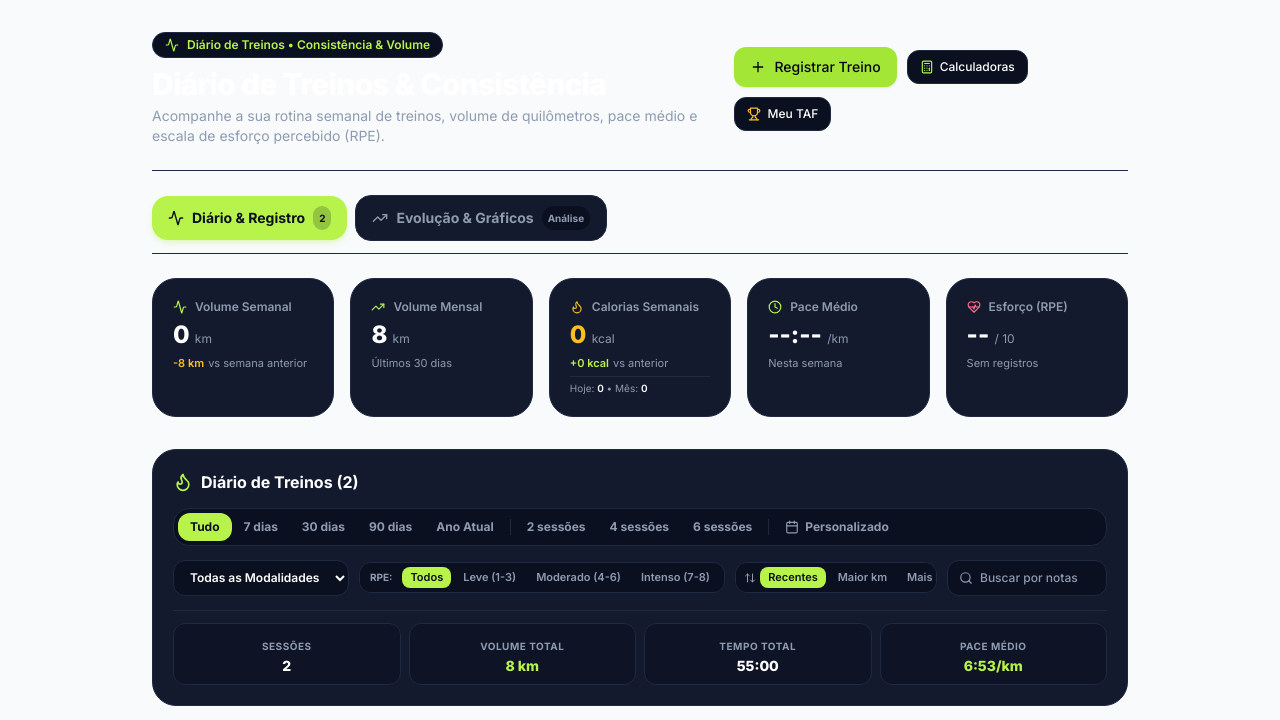
Diário de Treinos - CRUD Completo (RPE, Peso, Splits e Filtros) › filtra treinos por modalidade e calcula resumo de volume
Expected: the text "8 km" is shown, [505, 656, 539, 674]
Note: Filtra por 'Caminhada'
Select "Caminhada" in the dropdown at (261, 578), box [173, 560, 349, 596]
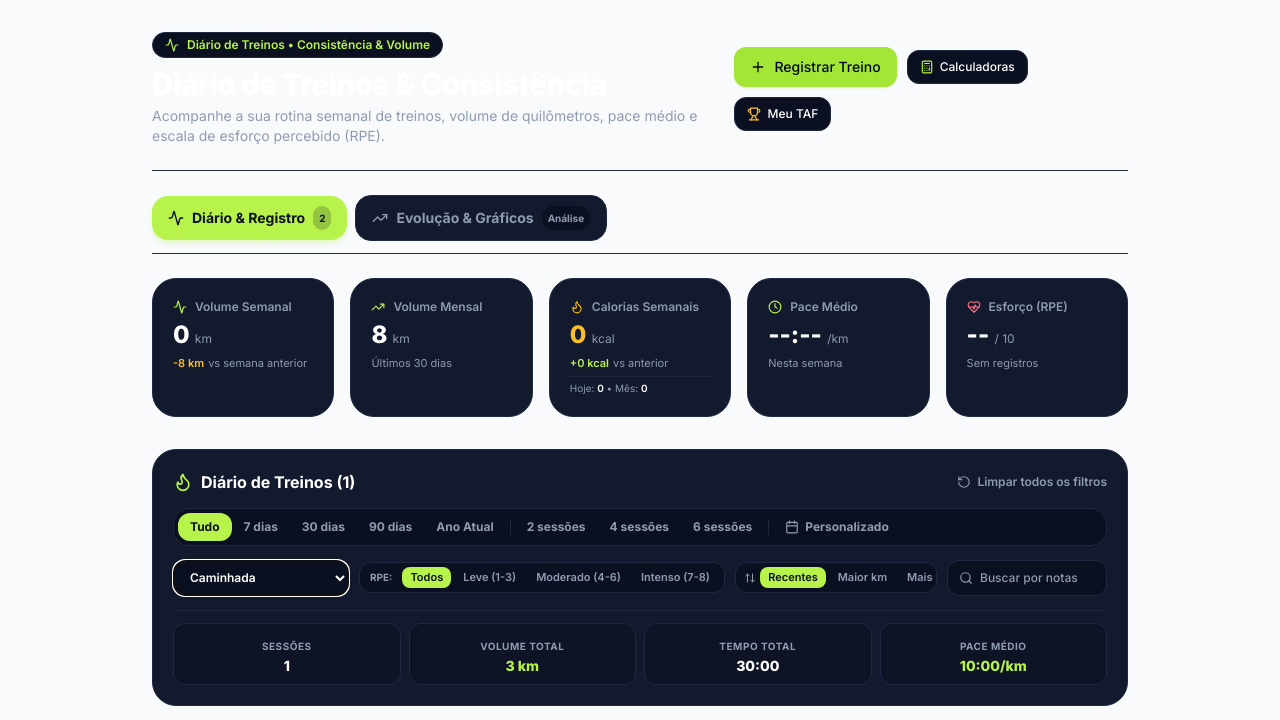
Now the text "5.00" is gone
Now the text "3 km" is shown, box [506, 656, 539, 674]
